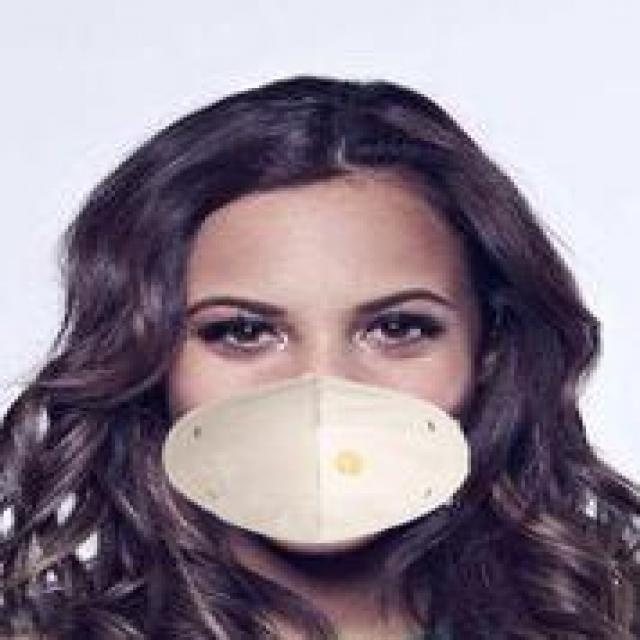mask: (111, 82, 528, 570)
